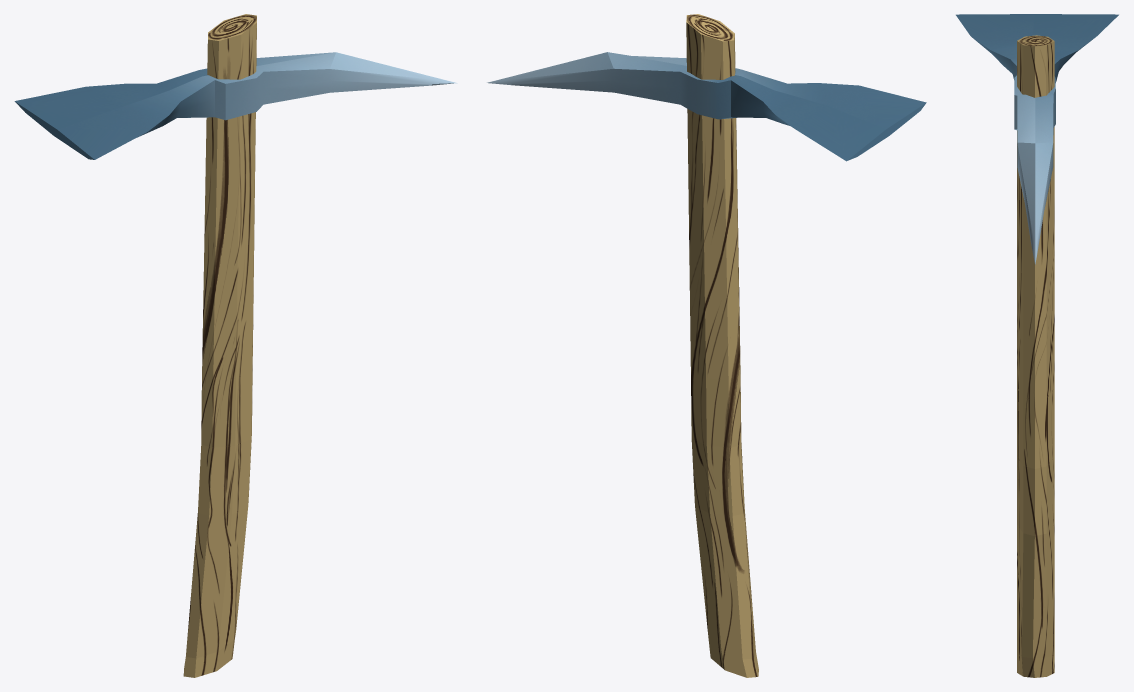
The model's file is Picareta_simples.fbx.
The picture shows the model from 3 angles, left to right: view 1: azimuth 30°, elevation 25°; view 2: azimuth 150°, elevation 25°; view 3: azimuth 270°, elevation 25°; orthographic projection. The views are drawn at different scales.
Visible parts, largest first — view 1: Cube, Plane.002; view 2: Cube, Plane.002; view 3: Cube, Plane.002.
Boxes of the visible parts, x1=… form: Cube: x1=183, y1=14, x2=256, y2=677; Plane.002: x1=14, y1=52, x2=457, y2=159; Cube: x1=686, y1=14, x2=758, y2=677; Plane.002: x1=487, y1=52, x2=926, y2=161; Cube: x1=1017, y1=35, x2=1054, y2=677; Plane.002: x1=956, y1=14, x2=1118, y2=264.
Bounding box in the file's own units: 65.58 × 100 × 22.64.
